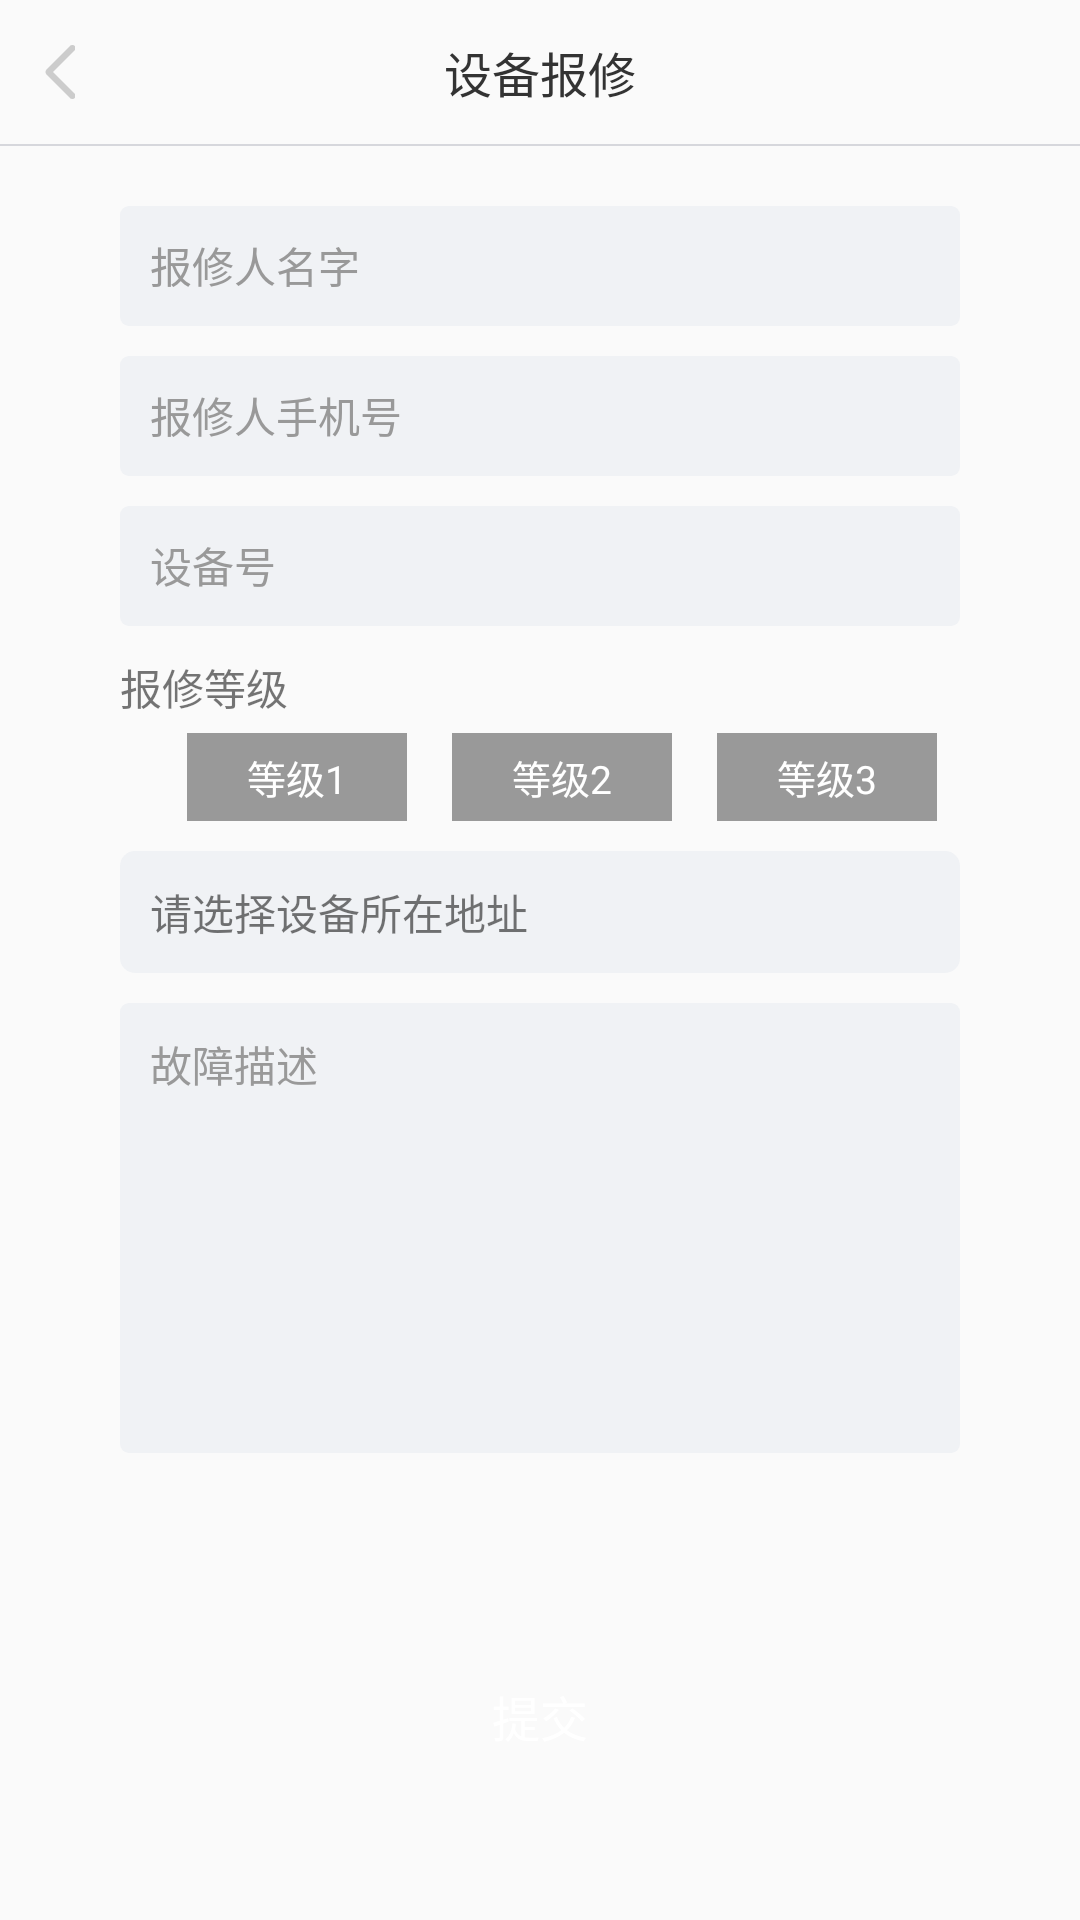

Icon bounding boxes for this 1080 x 1920 phone screenshot, format (x1, y1, x2, y2):
back: (46, 45, 75, 99)
